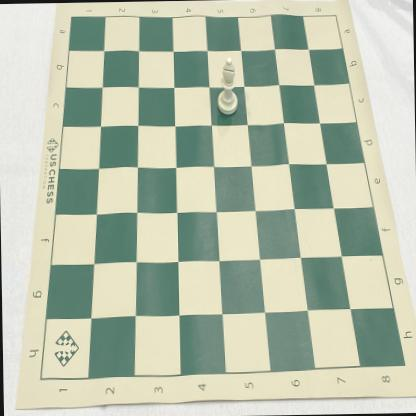white-bishop: (216, 56, 238, 115)
